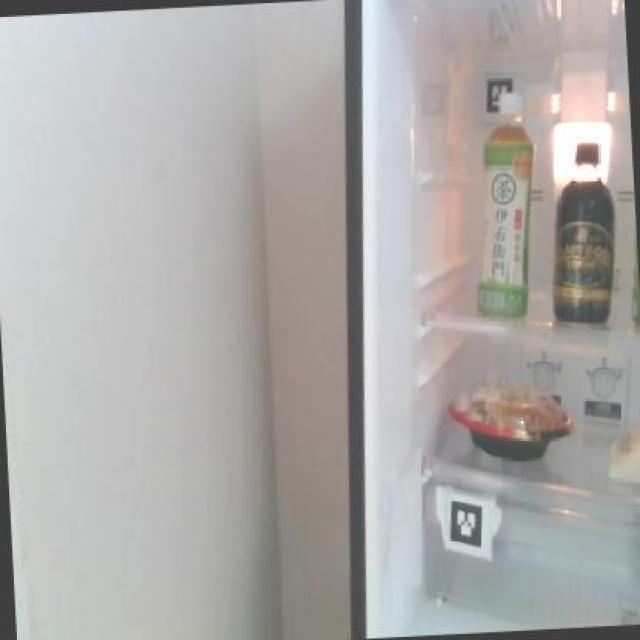coffee: (544, 134, 621, 328)
sandwich: (446, 376, 579, 467), (604, 424, 638, 482)
tea_i: (465, 105, 541, 322)
